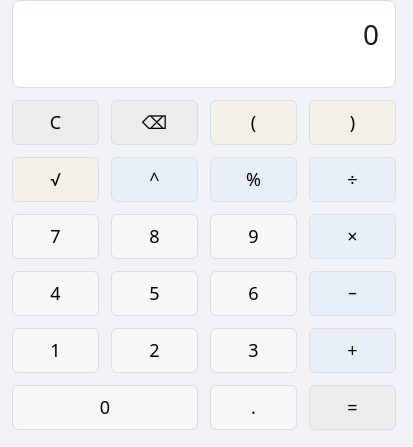
Calculator › appends sqrt( when clicking square root
Click the button named "square root". click: (56, 180)
box: x1=12 y1=157 x2=99 y2=202
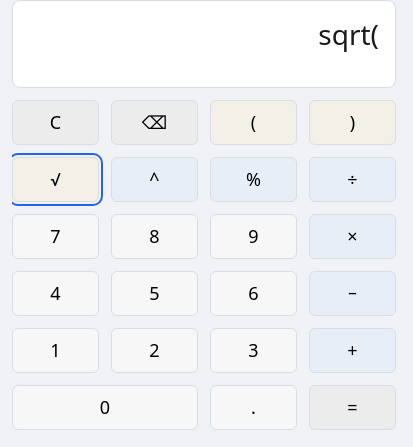
Now the text named "Display" reads "sqrt(", box x1=318 y1=15 x2=379 y2=53
